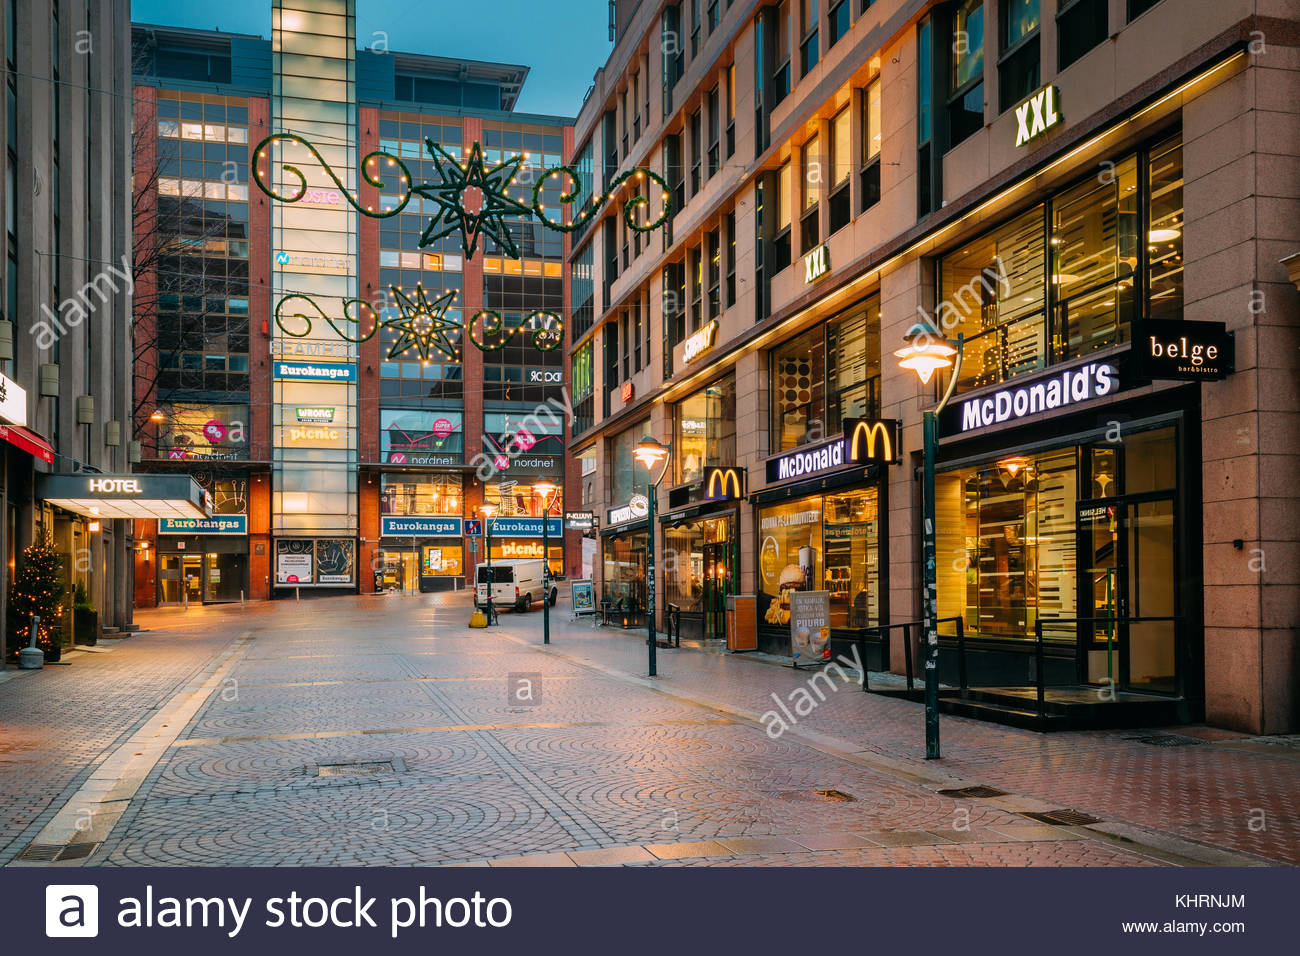mcdonalds: (840, 410, 895, 460), (705, 463, 743, 502)
